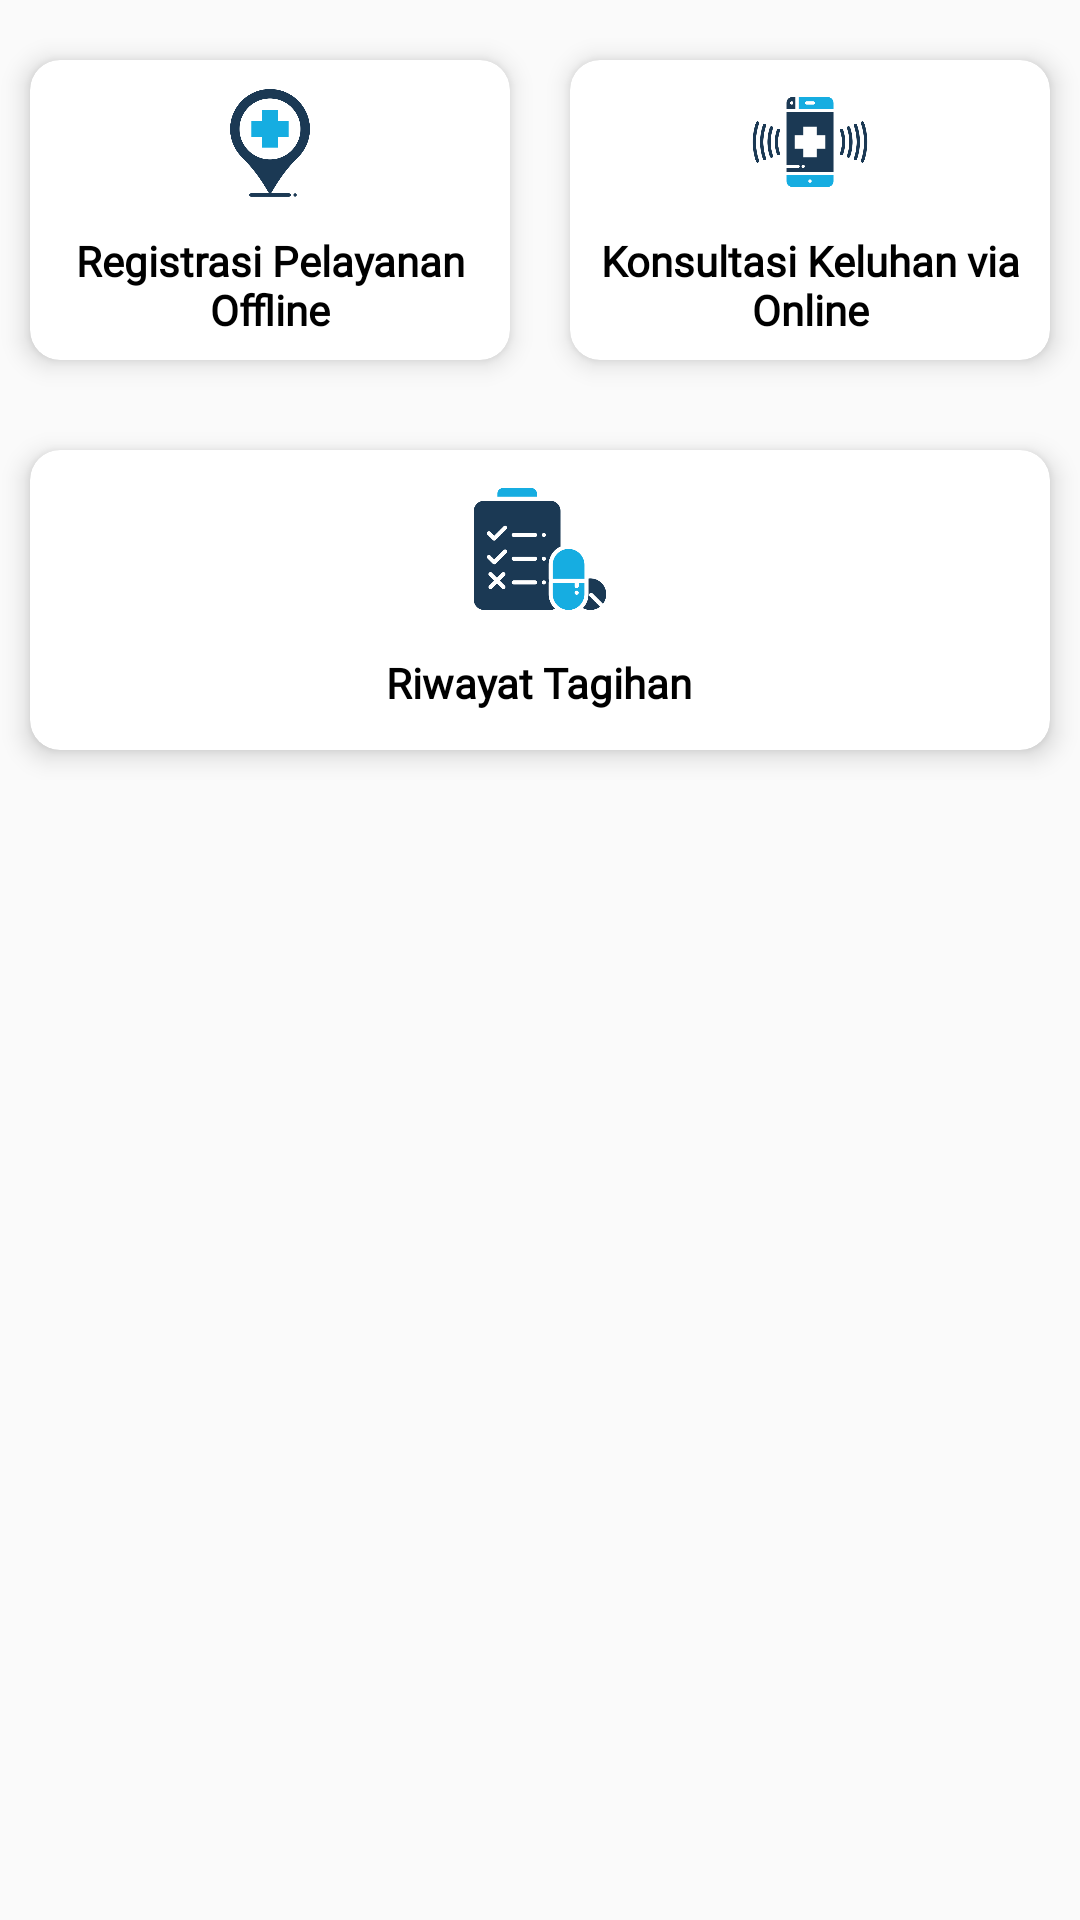

Screen size 1080*1920. Icon name, then its box in pixels as (x1, y1, x2, y2):
list: (474, 488, 606, 610)
loc: (230, 89, 310, 197)
phone: (753, 97, 867, 187)
